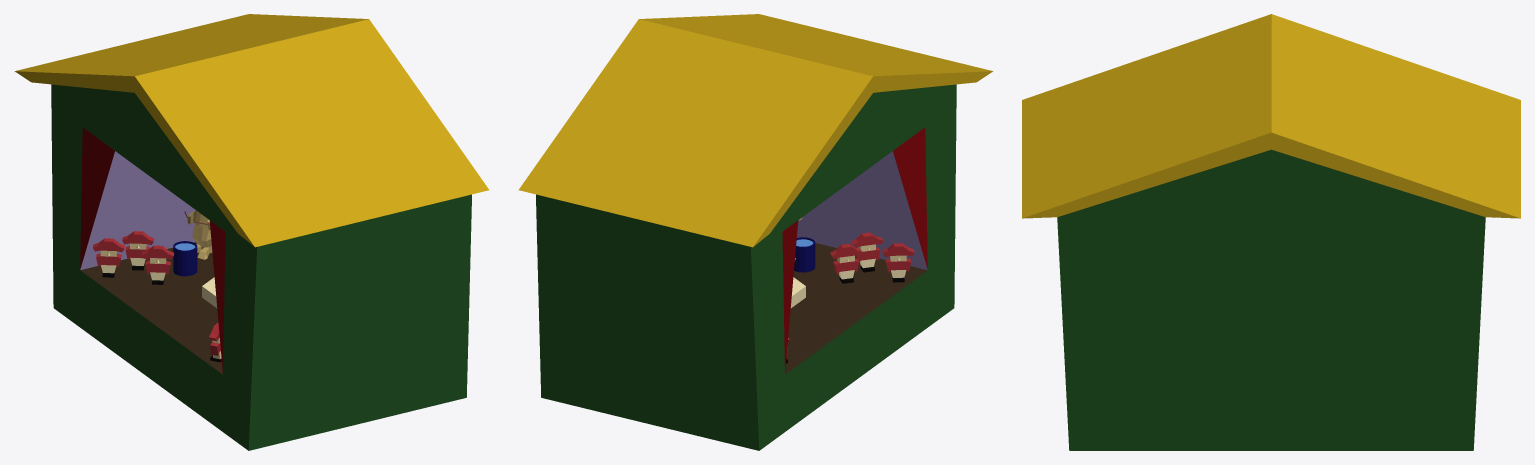
Rendered from theatre.fbx.
3 views of the same model, side by side, from view 1: azimuth 30°, elevation 25°; view 2: azimuth 150°, elevation 25°; view 3: azimuth 270°, elevation 25° (orthographic). The views are drawn at different scales.
Visible parts, largest first — view 1: Cube.001, Cube.026, Cube.007, барабан, Cube.024, Plane; view 2: Cube.001, Cube.009, Cube.008, Cube.006, барабан.002; view 3: Cube.001.
Part boxes in pixels (box(x1,y1,x2,y2)): Cube.001: box(14, 14, 489, 450); Cube.026: box(92, 238, 124, 277); Cube.007: box(142, 245, 174, 284); барабан: box(173, 241, 197, 276); Cube.024: box(122, 231, 154, 270); Plane: box(187, 210, 212, 259); Cube.001: box(518, 14, 993, 450); Cube.009: box(830, 243, 862, 283); Cube.008: box(882, 243, 914, 282); Cube.006: box(851, 232, 883, 272); барабан.002: box(794, 237, 815, 272); Cube.001: box(1022, 14, 1520, 450).
Size of what is drawn, in the model's own units: 3418 by 4281 by 6077.
